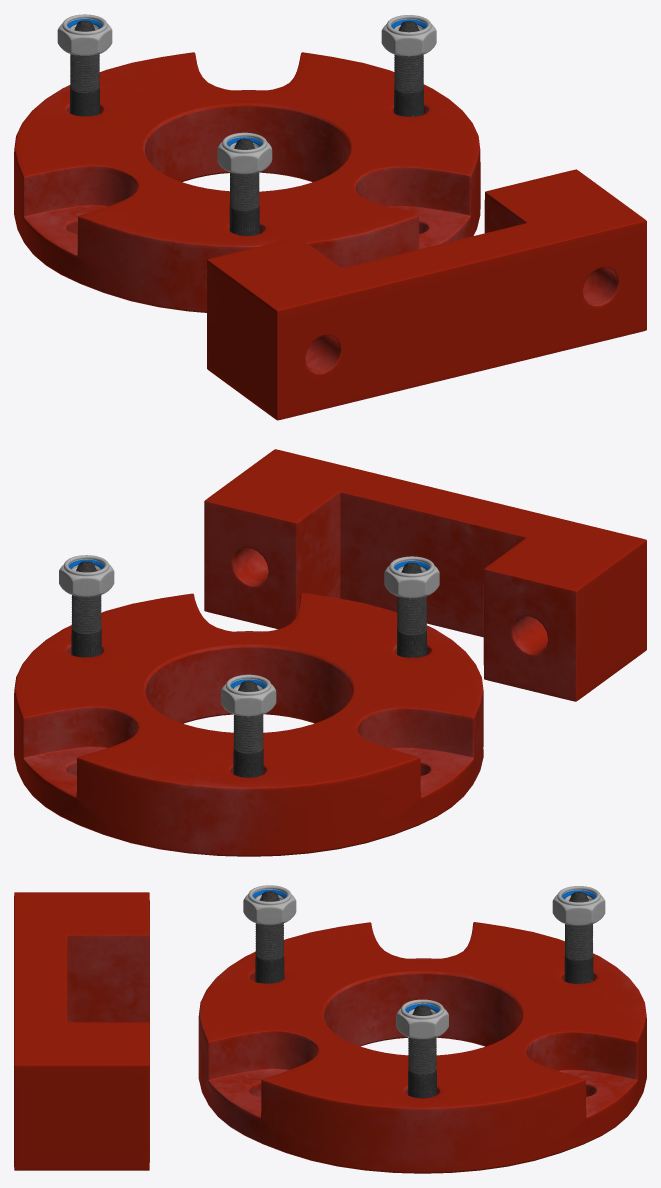
3 renders of one model, top to bottom at view 1: azimuth 30°, elevation 25°; view 2: azimuth 150°, elevation 25°; view 3: azimuth 270°, elevation 25°, orthographic. The views are drawn at different scales.
Parts seen in each view (by area): view 1: Part1, Part2, hex_large1, hex_large, hex_large2, nut3, nut5, nut4; view 2: Part1, Part2, hex_large, hex_large2, hex_large1, nut5, nut4, nut3; view 3: Part1, Part2, hex_large2, hex_large1, hex_large, nut3, nut5, nut4.
Boxes of the visible parts, x1=… form: Part1: x1=14, y1=52, x2=480, y2=312; Part2: x1=207, y1=169, x2=646, y2=420; hex_large1: x1=229, y1=138, x2=259, y2=236; hex_large: x1=70, y1=20, x2=99, y2=116; hex_large2: x1=394, y1=21, x2=423, y2=116; nut3: x1=57, y1=14, x2=112, y2=55; nut5: x1=217, y1=132, x2=272, y2=174; nut4: x1=381, y1=15, x2=436, y2=56; Part1: x1=14, y1=592, x2=483, y2=856; Part2: x1=204, y1=449, x2=646, y2=701; hex_large: x1=233, y1=680, x2=263, y2=777; hex_large2: x1=71, y1=561, x2=101, y2=657; hex_large1: x1=397, y1=562, x2=427, y2=657; nut5: x1=384, y1=556, x2=439, y2=598; nut4: x1=59, y1=555, x2=114, y2=596; nut3: x1=221, y1=674, x2=276, y2=716; Part1: x1=198, y1=922, x2=646, y2=1173; Part2: x1=14, y1=892, x2=149, y2=1170; hex_large2: x1=408, y1=1005, x2=436, y2=1098; hex_large1: x1=255, y1=891, x2=284, y2=983; hex_large: x1=564, y1=891, x2=593, y2=983; nut3: x1=552, y1=886, x2=605, y2=925; nut5: x1=243, y1=885, x2=296, y2=924; nut4: x1=396, y1=999, x2=448, y2=1039.
Bounding box in the file's own units: 7.08 × 2.65 × 9.98.
Materials: 1 (1 with a texture image).
